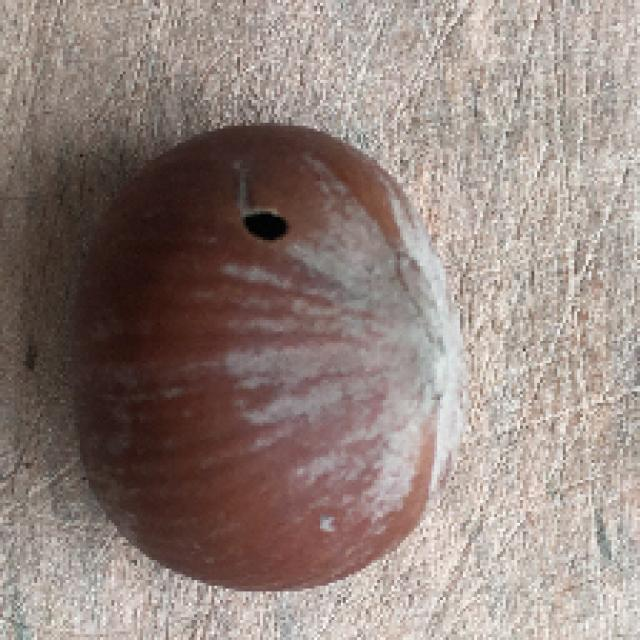DamagedHazelnut: (72, 122, 459, 593)
